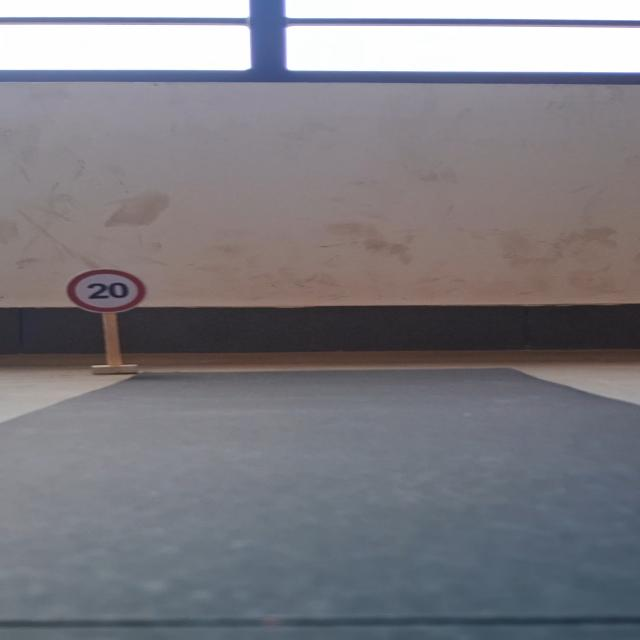Speed20: (61, 264, 157, 318)
